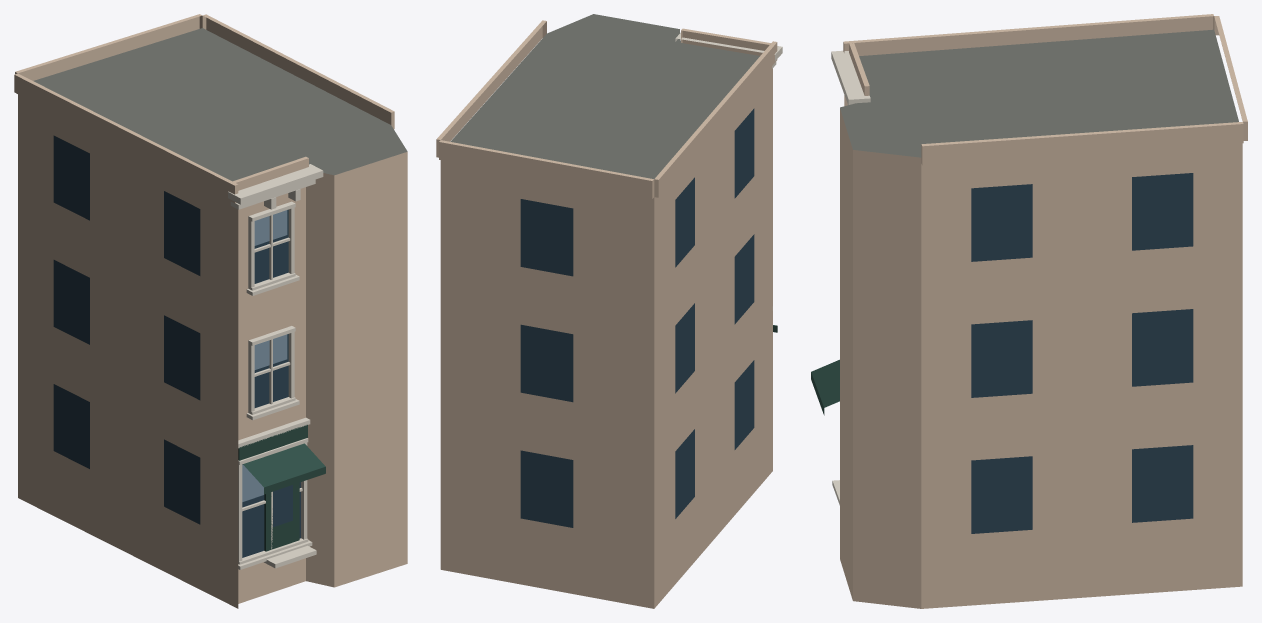
The picture shows the model from 3 angles, left to right: view 1: azimuth 30°, elevation 25°; view 2: azimuth 150°, elevation 25°; view 3: azimuth 270°, elevation 25°; orthographic projection. The views are drawn at different scales.
Parts seen in each view (by area): view 1: Footprint 0 / surface 2, Footprint 0 / surface 1, Inset glazing, Facade bay volumes, Cornices and window frames, Storefronts and doors, Sky reflection panels; view 2: Footprint 0 / surface 2, Footprint 0 / surface 1, Inset glazing, Facade bay volumes; view 3: Footprint 0 / surface 2, Footprint 0 / surface 1, Inset glazing, Facade bay volumes, Cornices and window frames, Storefronts and doors.
Part boxes in pixels (x1,y1,x2,y2): Footprint 0 / surface 2: (18,94,407,608); Footprint 0 / surface 1: (33,28,407,181); Inset glazing: (53,135,300,557); Facade bay volumes: (14,14,394,203); Cornices and window frames: (228,164,323,569); Storefronts and doors: (238,424,325,551); Sky reflection panels: (242,210,287,501); Footprint 0 / surface 2: (440,66,772,608); Footprint 0 / surface 1: (450,14,759,178); Inset glazing: (520,108,754,527); Facade bay volumes: (436,20,777,198); Footprint 0 / surface 2: (840,95,1242,608); Footprint 0 / surface 1: (840,29,1238,157); Inset glazing: (971,173,1193,533); Facade bay volumes: (843,14,1247,165); Cornices and window frames: (831,50,870,505); Storefronts and doors: (811,359,839,415).
Bounding box in the file's own units: 7.33 × 12 × 10.22.
